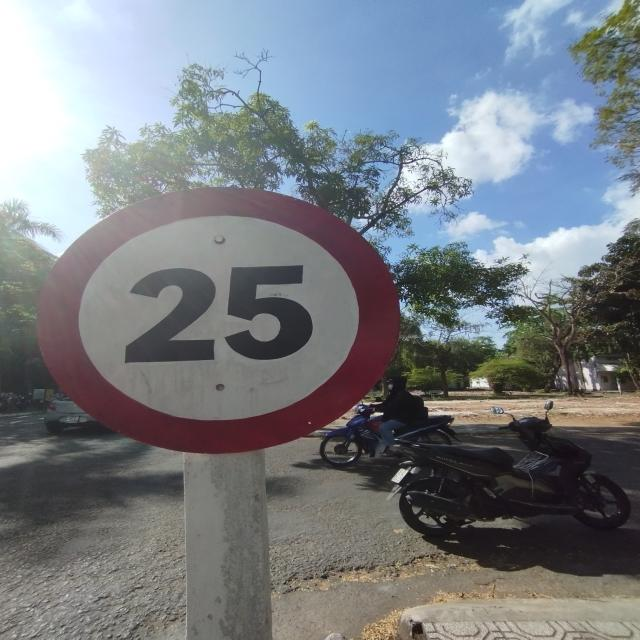Tre_Em: (34, 184, 404, 454)
